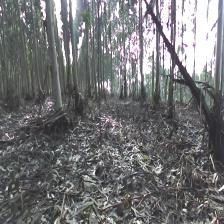trunk: (166, 40, 214, 128), (45, 5, 62, 113), (212, 3, 224, 114), (68, 2, 80, 100), (153, 36, 161, 99)
